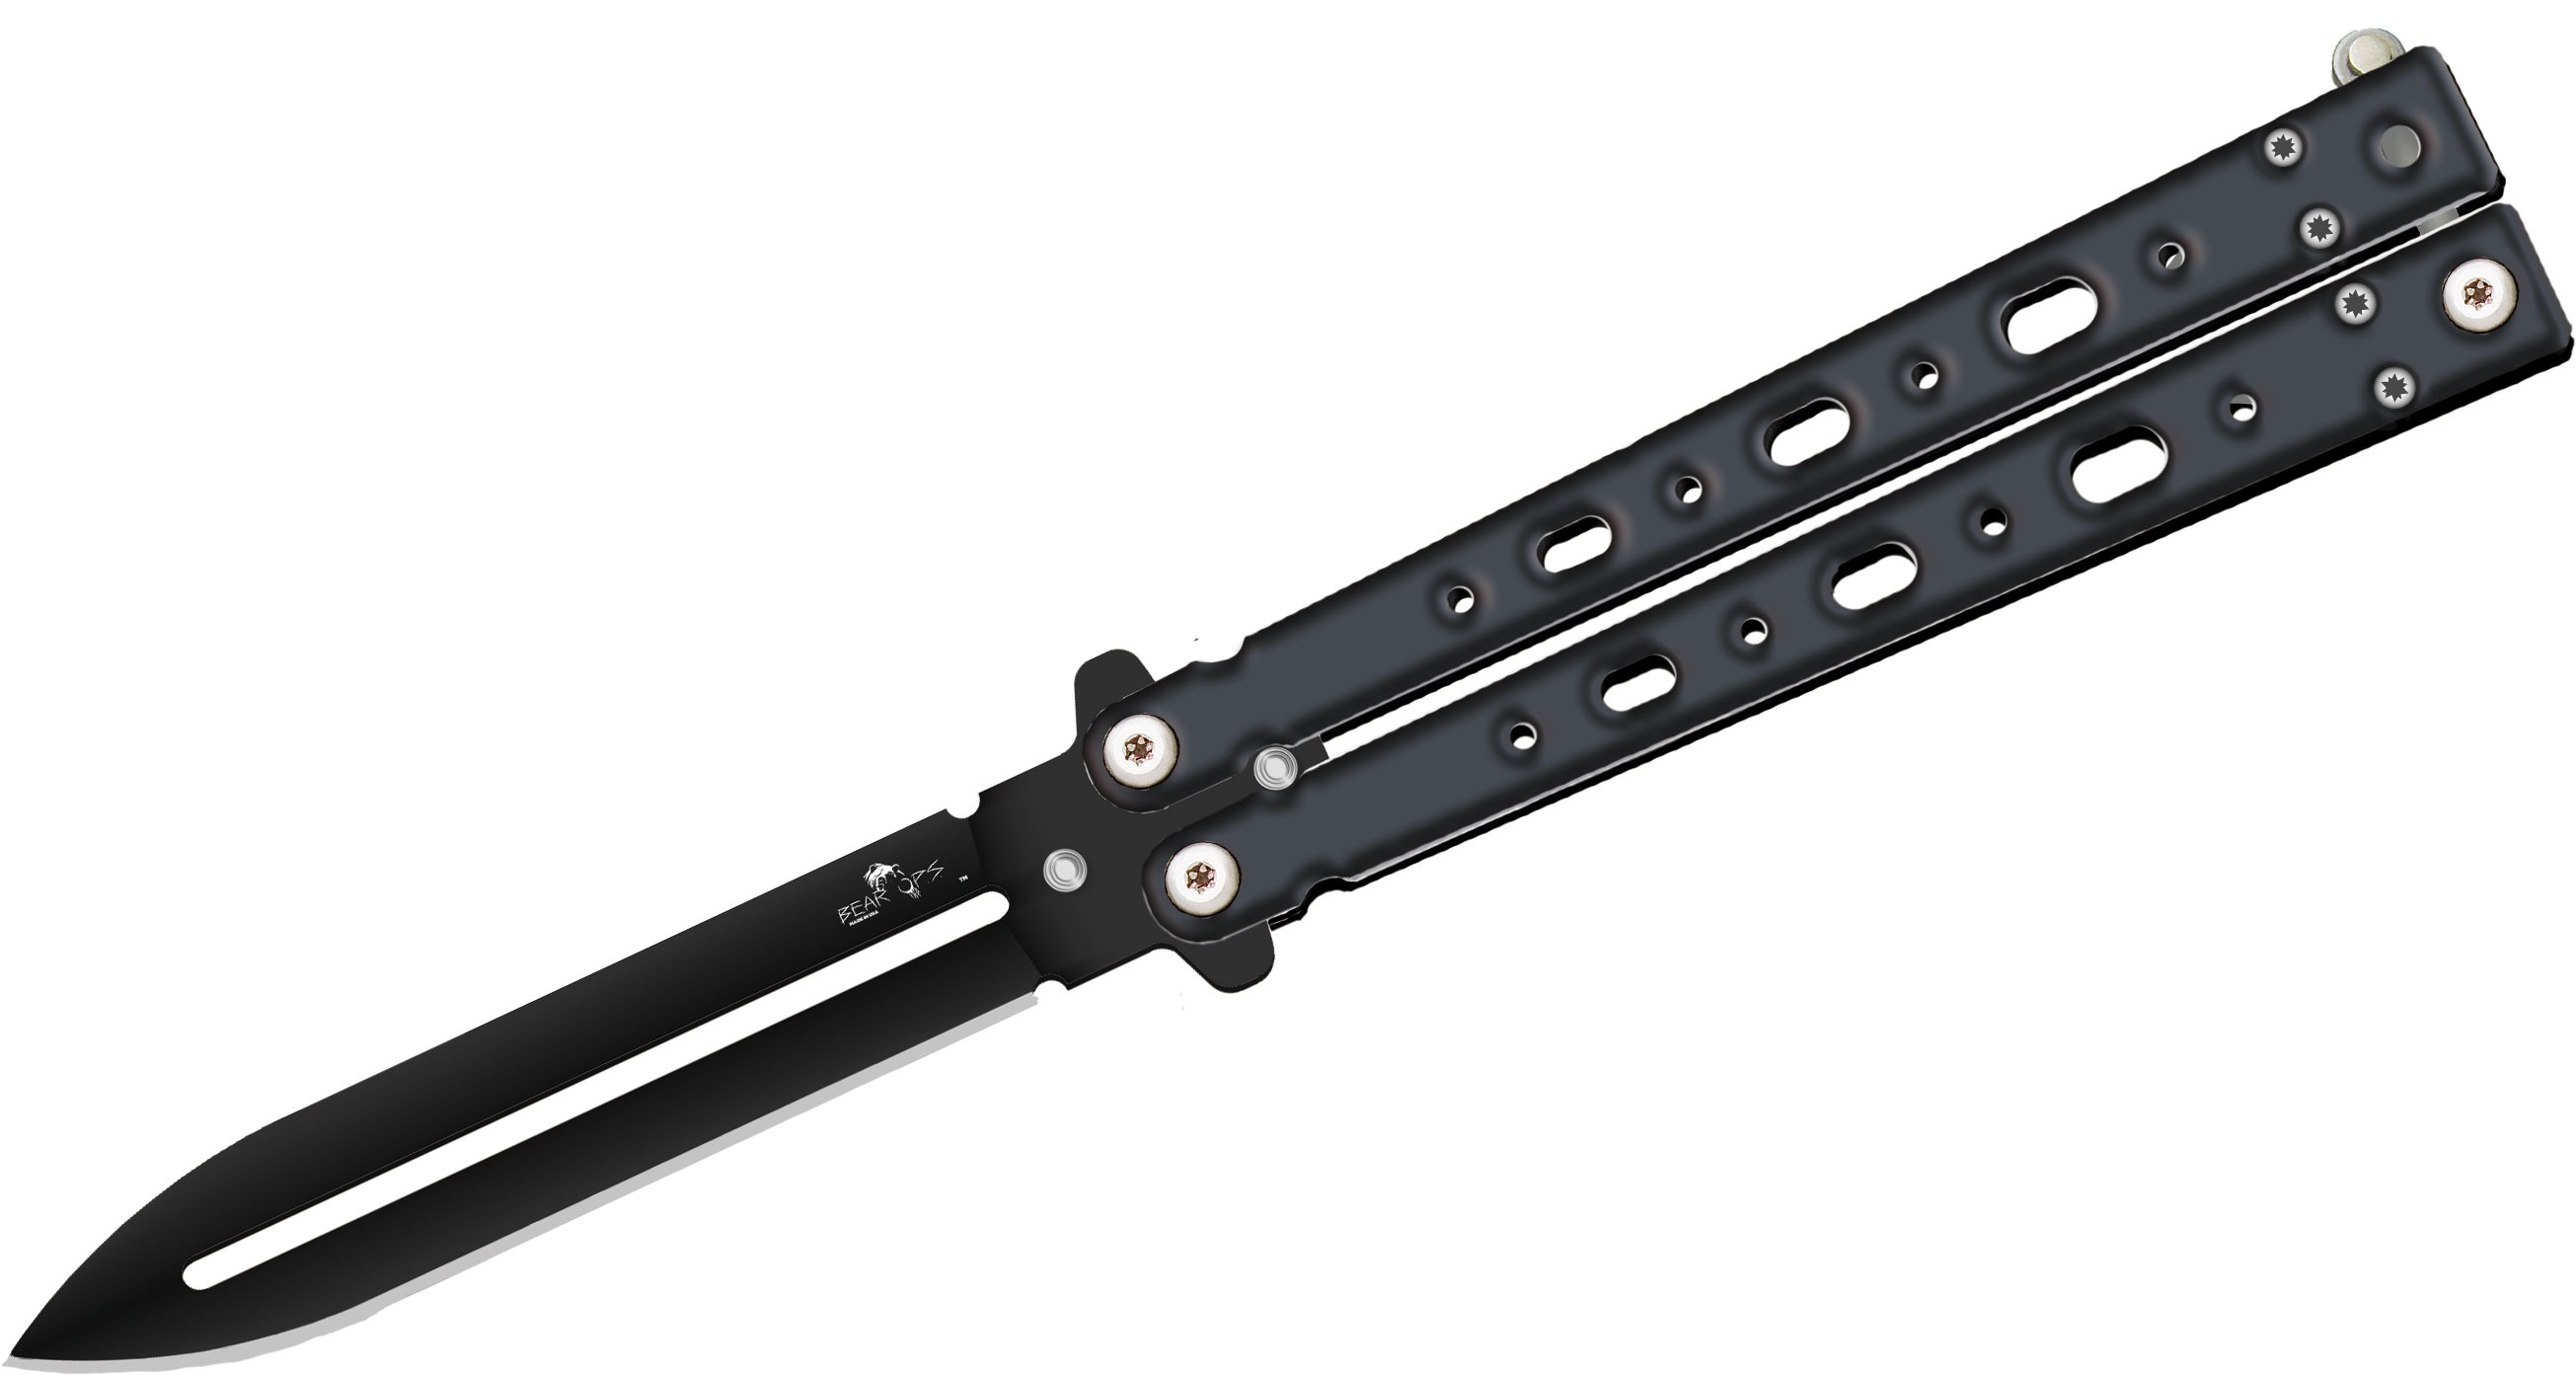knife: (14, 20, 2576, 1373)
